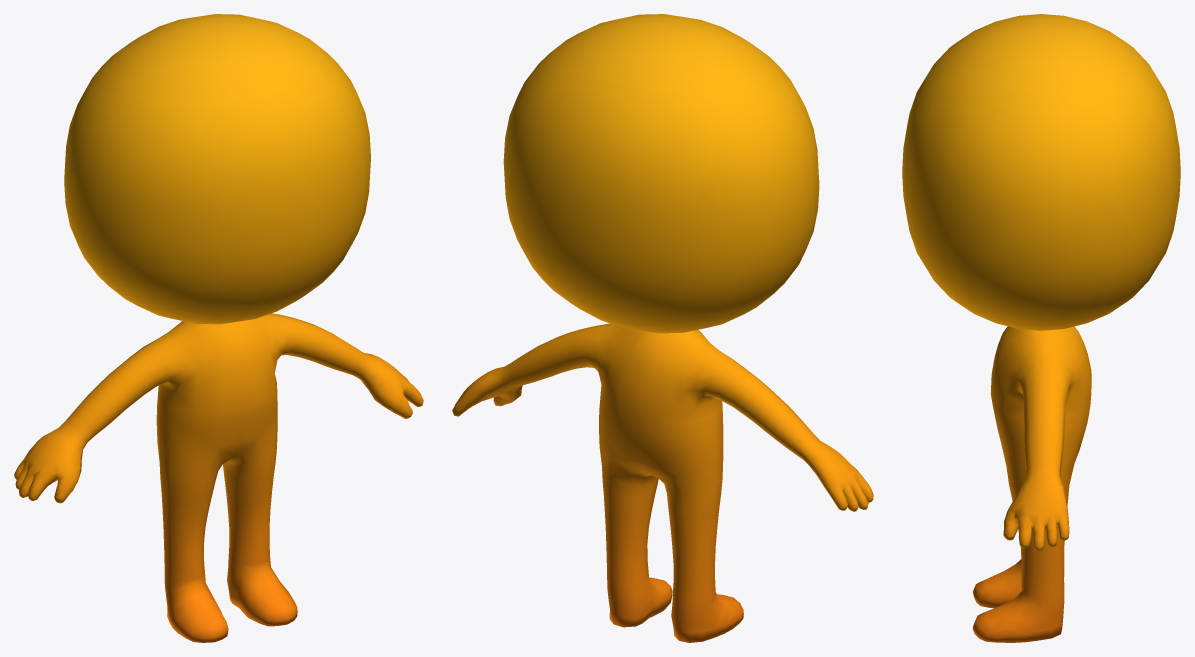
File: Body_07.glb
3 views of the same model, side by side, from view 1: azimuth 30°, elevation 25°; view 2: azimuth 150°, elevation 25°; view 3: azimuth 270°, elevation 25° (orthographic). The views are drawn at different scales.
Visible parts, largest first — view 1: Body_07; view 2: Body_07; view 3: Body_07.
Part boxes in pixels (x1,y1,x2,y2): Body_07: (14, 14, 423, 642); Body_07: (452, 14, 873, 642); Body_07: (902, 14, 1180, 642).
Bounding box in the file's own units: 0.828 × 1.15 × 0.4965.
Materials: 1 (1 with a texture image).
